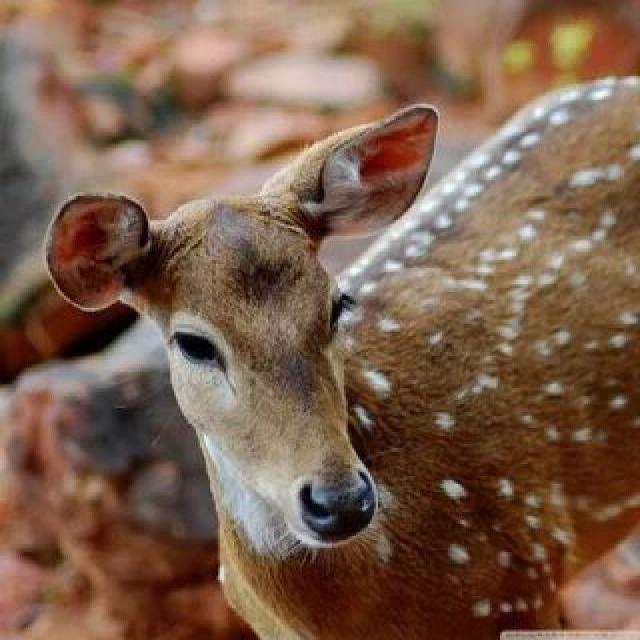deer: (24, 95, 640, 538)
